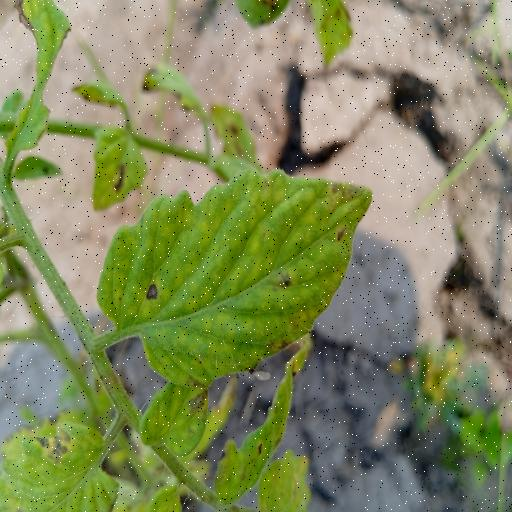Tomato_Brown_Spots: (95, 162, 376, 388)
